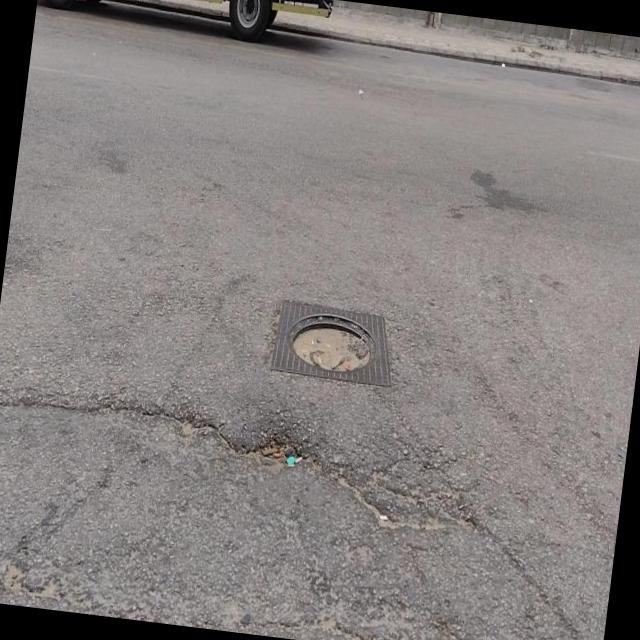Pothole: (287, 315, 378, 376)
